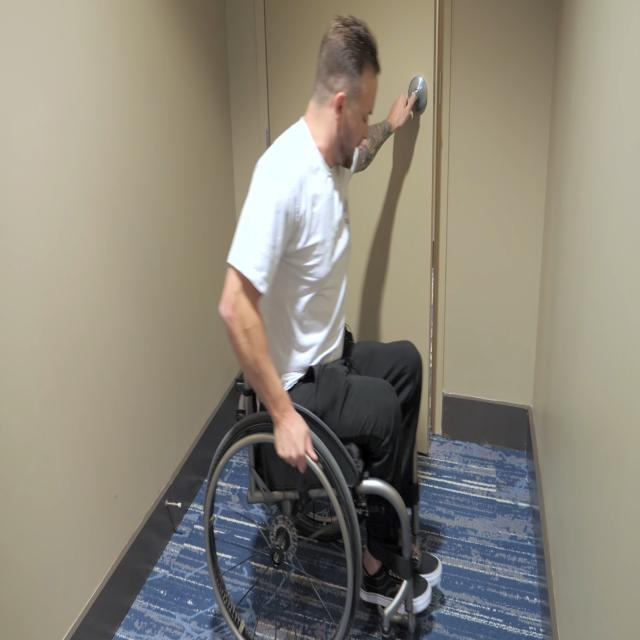wheelchairs: (202, 314, 428, 640)
